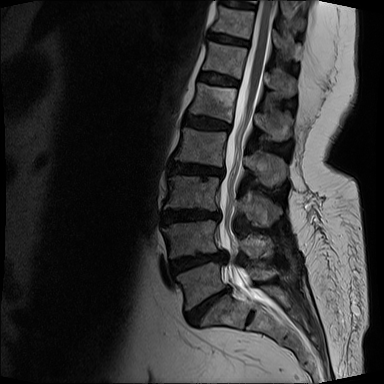Degenerative Disc Disease (DDD): (199, 27, 253, 52)
Lumbar Disc Bulge (LDB): (179, 280, 241, 337), (159, 243, 233, 281), (153, 203, 230, 230), (161, 154, 229, 184), (176, 107, 237, 138)
Normal IVD: (191, 66, 241, 94)
Spinal Stenosis (SS): (210, 244, 232, 270), (210, 159, 230, 184), (218, 115, 238, 140), (207, 202, 225, 225), (220, 281, 235, 300)
